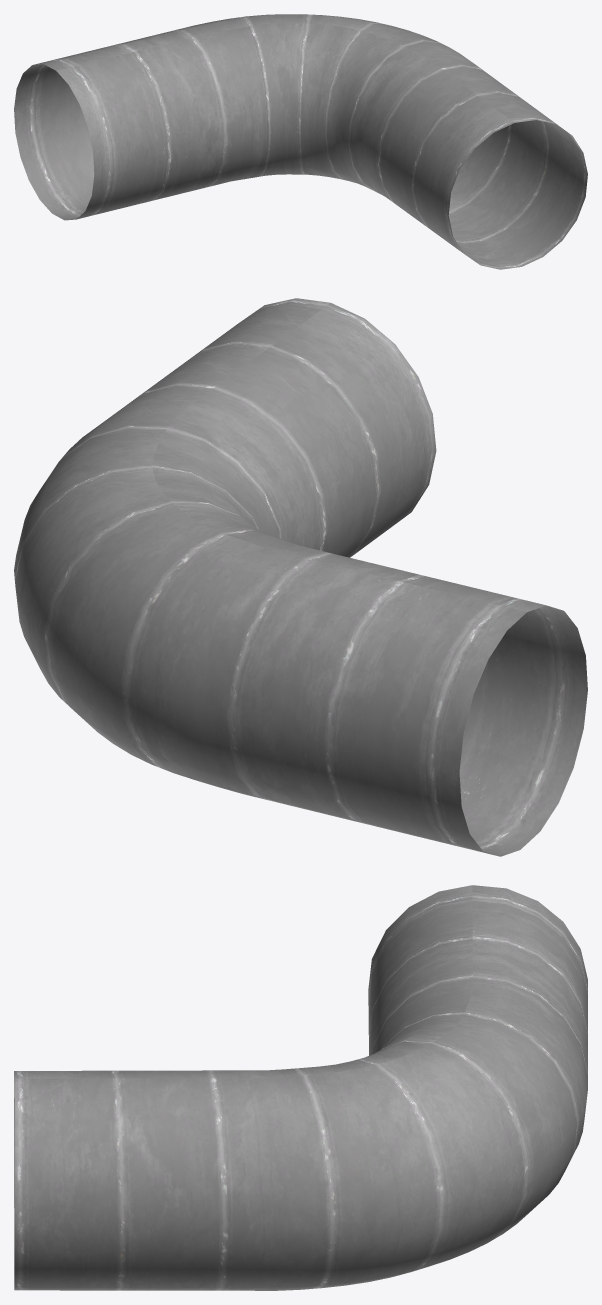
The model's file is SM_Air_Vent_01a.glb.
3 views of the same model, one above another, from view 1: azimuth 30°, elevation 25°; view 2: azimuth 150°, elevation 25°; view 3: azimuth 270°, elevation 25° (orthographic). The views are drawn at different scales.
Parts seen in each view (by area): view 1: SM_Air_Vent_01a; view 2: SM_Air_Vent_01a; view 3: SM_Air_Vent_01a.
Part boxes in pixels (box(x1,y1,x2,y2)): SM_Air_Vent_01a: box(14, 14, 587, 269); SM_Air_Vent_01a: box(14, 298, 587, 856); SM_Air_Vent_01a: box(14, 885, 587, 1290).
Size of the model in its own units: 1.55 by 0.5953 by 1.55.
1 material, 1 textured.
